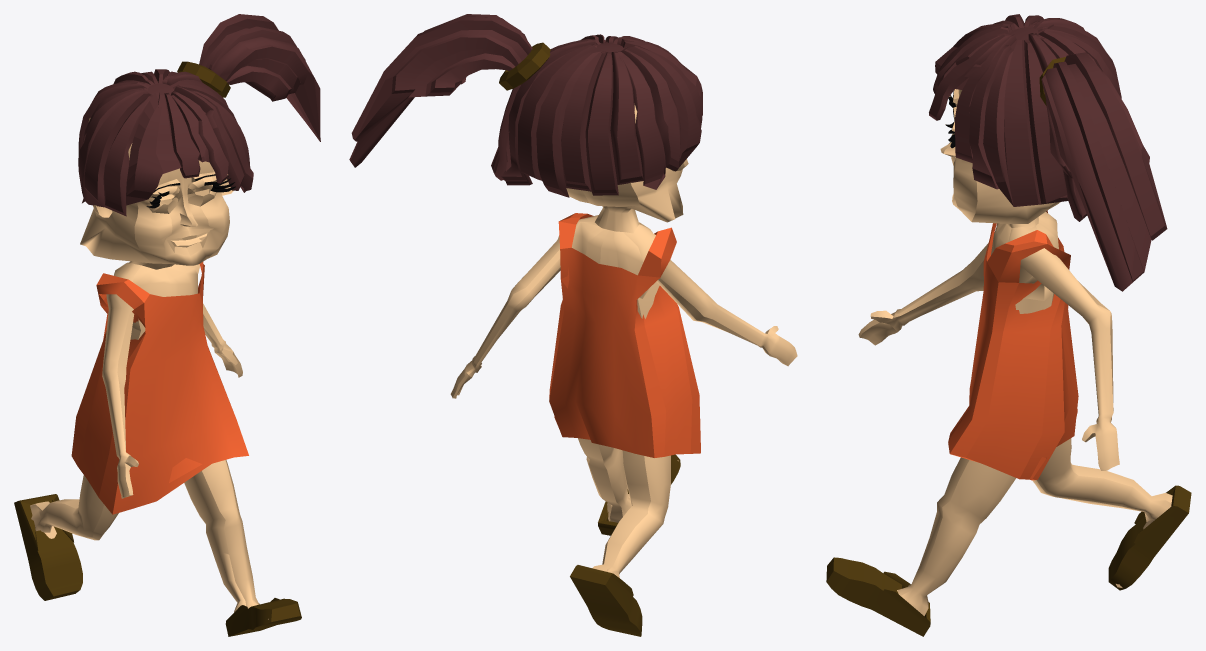
File: pose4.obj
3 views of the same model, side by side, from view 1: azimuth 30°, elevation 25°; view 2: azimuth 150°, elevation 25°; view 3: azimuth 270°, elevation 25° (orthographic). The views are drawn at different scales.
Visible parts, largest first — view 1: pasted__girl group2 pasted__group1 group, group2 pasted__group1 group pasted__polySurface1, group2 pasted__group1 group pasted__vestido, group2 pasted__group1 group pasted__polySurface3, group2 pasted__group1 group pasted__polySurface2, group2 pasted__group1 group pasted__pTorus1; view 2: group2 pasted__group1 group pasted__polySurface1, group2 pasted__group1 group pasted__vestido, pasted__girl group2 pasted__group1 group, group2 pasted__group1 group pasted__polySurface3, group2 pasted__group1 group pasted__pTorus1; view 3: group2 pasted__group1 group pasted__polySurface1, pasted__girl group2 pasted__group1 group, group2 pasted__group1 group pasted__vestido, group2 pasted__group1 group pasted__polySurface2, group2 pasted__group1 group pasted__polySurface3.
Boxes of the visible parts, x1,y1,x2,y2 form: pasted__girl group2 pasted__group1 group: (30,118,268,619); group2 pasted__group1 group pasted__polySurface1: (78,14,320,216); group2 pasted__group1 group pasted__vestido: (71,262,248,514); group2 pasted__group1 group pasted__polySurface3: (14,494,82,600); group2 pasted__group1 group pasted__polySurface2: (225,598,301,636); group2 pasted__group1 group pasted__pTorus1: (177,61,230,97); group2 pasted__group1 group pasted__polySurface1: (349,14,702,197); group2 pasted__group1 group pasted__vestido: (549,213,700,457); pasted__girl group2 pasted__group1 group: (450,105,797,577); group2 pasted__group1 group pasted__polySurface3: (570,565,642,636); group2 pasted__group1 group pasted__pTorus1: (499,42,550,90); group2 pasted__group1 group pasted__polySurface1: (929,14,1167,291); pasted__girl group2 pasted__group1 group: (858,89,1172,615); group2 pasted__group1 group pasted__vestido: (948,210,1078,480); group2 pasted__group1 group pasted__polySurface2: (826,557,930,636); group2 pasted__group1 group pasted__polySurface3: (1108,485,1191,590).
Size of the model in its own units: 13.53 by 22.71 by 12.36.
